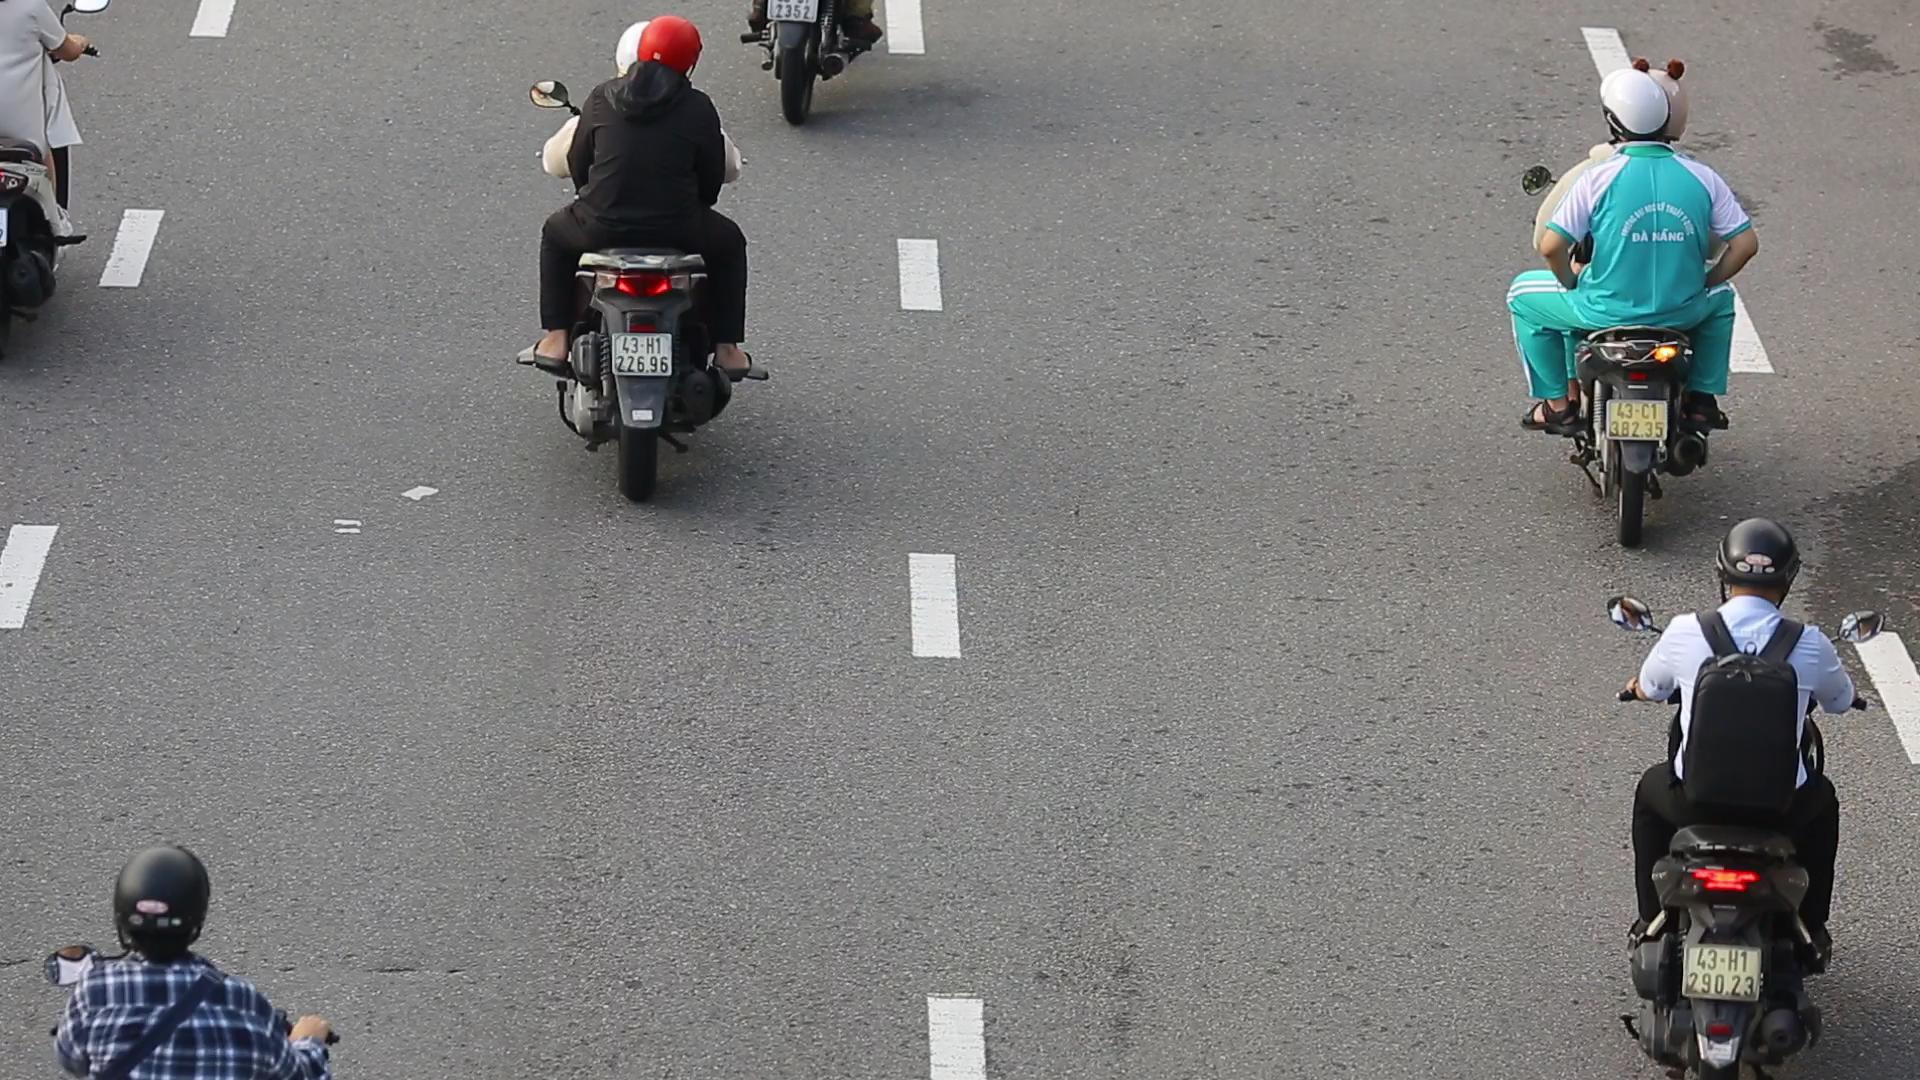motobike: (1602, 516, 1869, 1080), (518, 16, 769, 512), (1497, 45, 1733, 543)
